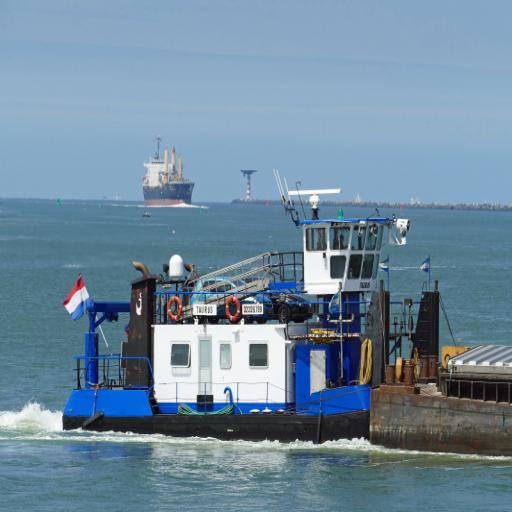tugboat: (59, 186, 447, 458)
